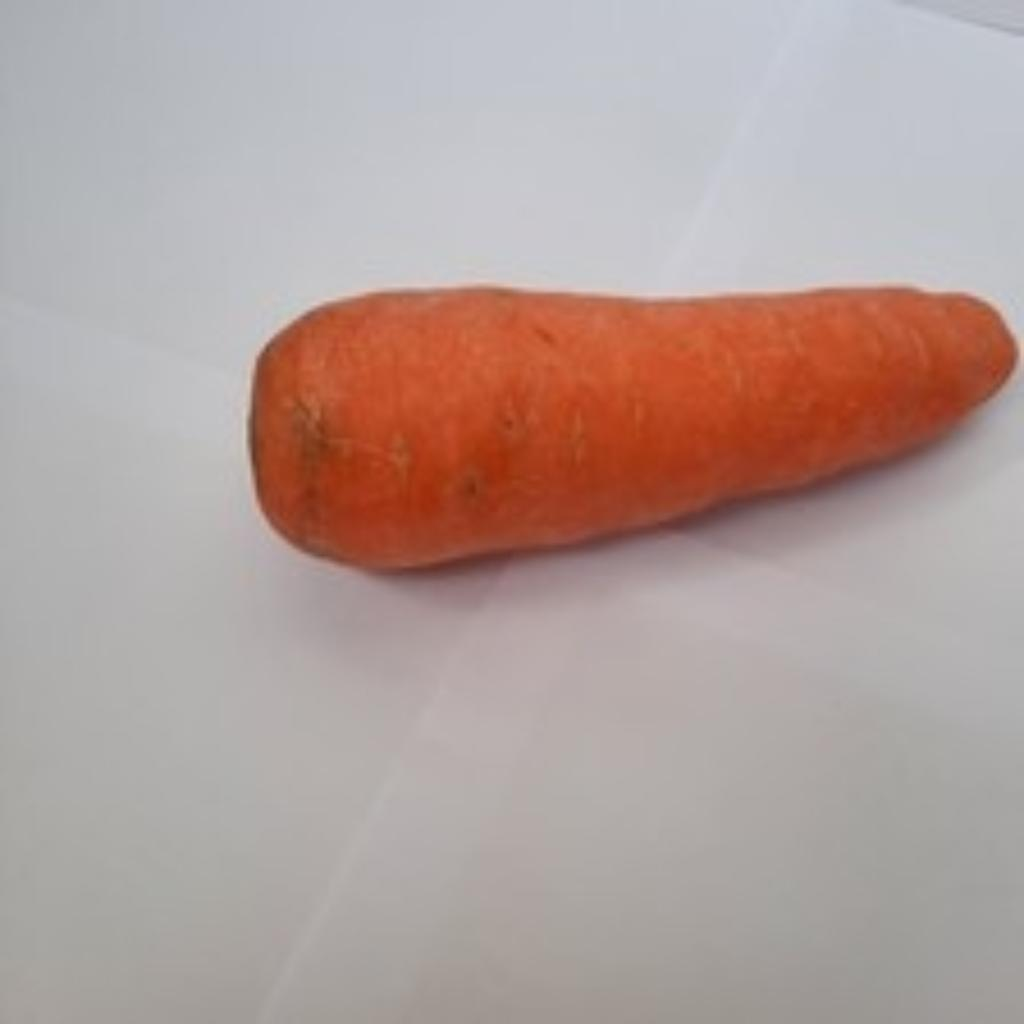carrot: (247, 283, 1006, 558)
